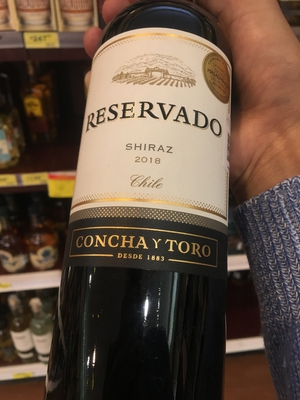reservado shiraz: (61, 21, 249, 399)
